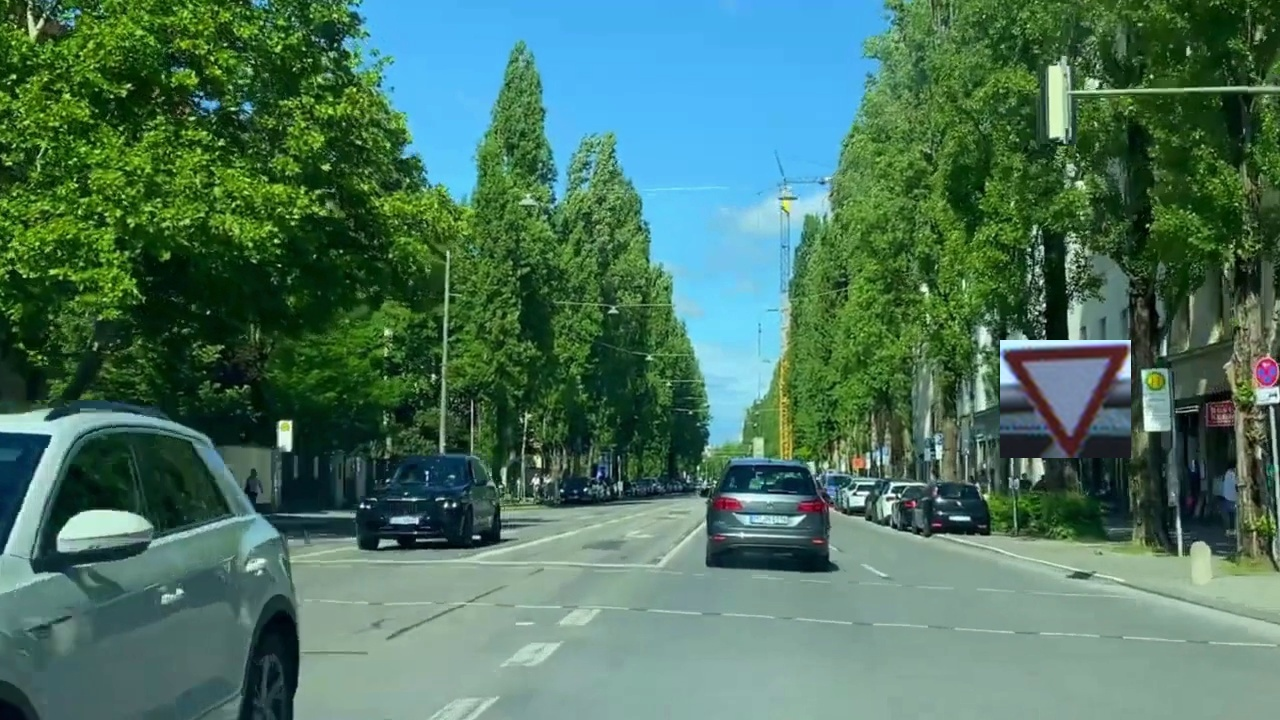Yield: (1000, 340, 1131, 458)
